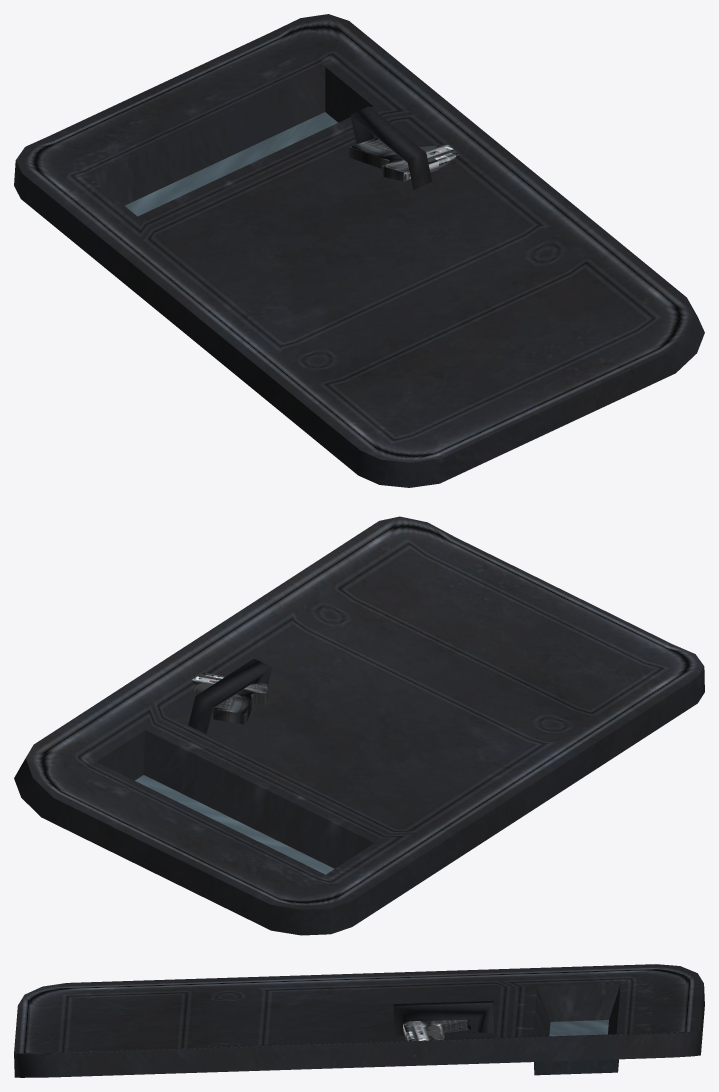
Rendered from shield.glb.
3 renders of one model, top to bottom at view 1: azimuth 30°, elevation 25°; view 2: azimuth 150°, elevation 25°; view 3: azimuth 270°, elevation 25°, orthographic. The views are drawn at different scales.
Visible parts, largest first — view 1: attachment_0, attachment_2, attachment_3; view 2: attachment_0, attachment_2, attachment_3; view 3: attachment_0, attachment_1, attachment_3, attachment_2.
Part boxes in pixels (x1,y1,x2,y2): attachment_0: (14,14,704,487); attachment_2: (125,112,337,216); attachment_3: (349,137,458,181); attachment_0: (14,516,704,935); attachment_2: (135,775,334,874); attachment_3: (191,673,267,724); attachment_0: (14,964,704,1077); attachment_1: (534,1059,618,1075); attachment_3: (403,1019,471,1056); attachment_2: (549,1020,608,1036).
Size of the model in its own units: 24.38 by 8.68 by 49.75.
Materials: 4 (4 with a texture image).
